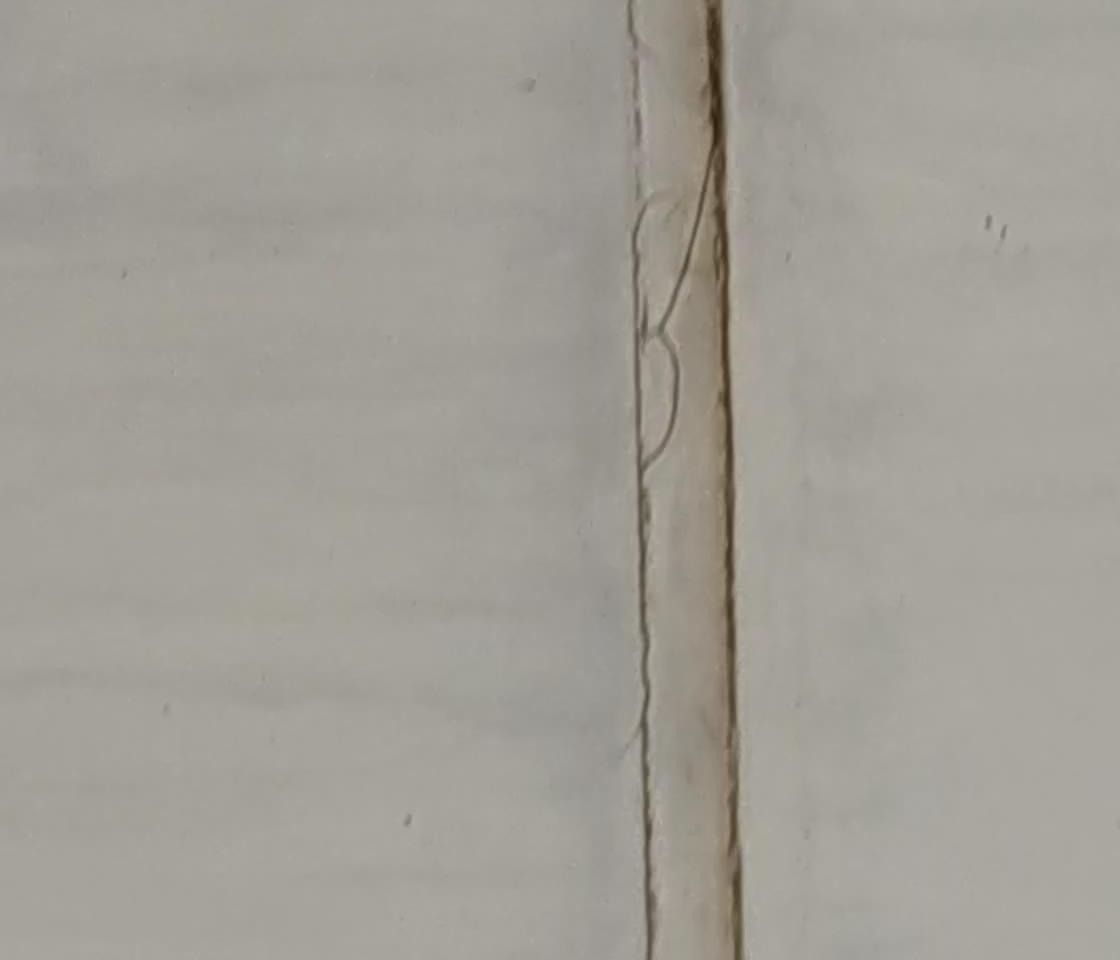scratch: (977, 205, 997, 240)
